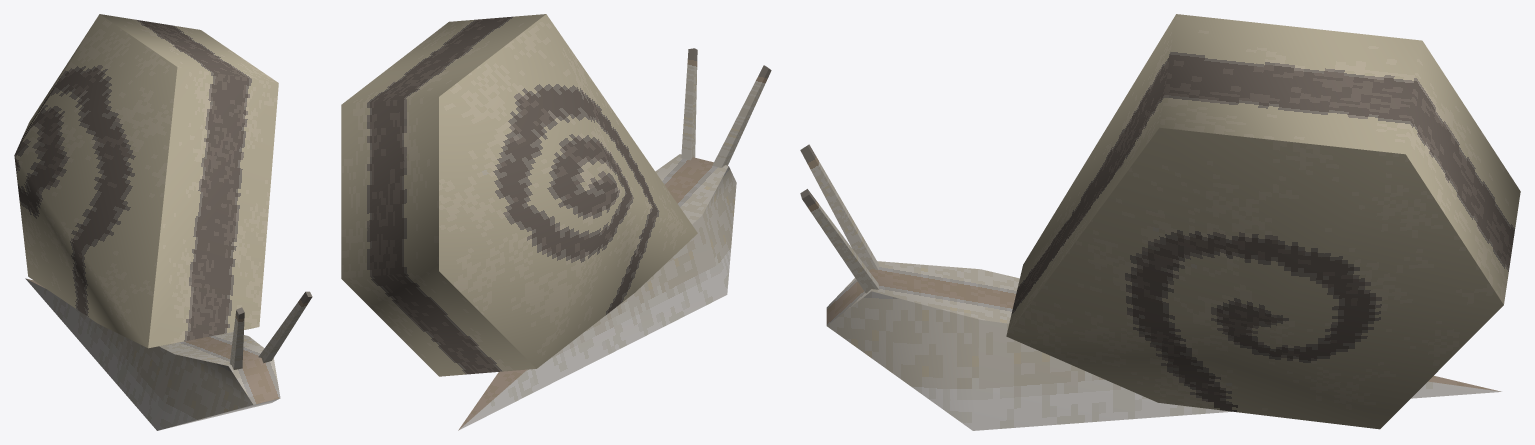
Rendered from 0221_Snail.glb.
3 renders of one model, left to right at view 1: azimuth 30°, elevation 25°; view 2: azimuth 150°, elevation 25°; view 3: azimuth 270°, elevation 25°, orthographic. The views are drawn at different scales.
Parts seen in each view (by area): view 1: part_0; view 2: part_0; view 3: part_0.
Part boxes in pixels (left/top/right/bottom): part_0: left=14, top=14, right=312, bottom=430; part_0: left=341, top=14, right=771, bottom=430; part_0: left=800, top=14, right=1520, bottom=430.
Size of the model in its own units: 0.0303 by 0.0379 by 0.0616.
Materials: 1 (1 with a texture image).
